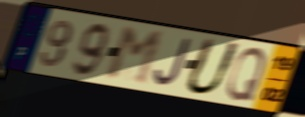9: (72, 21, 111, 78), (38, 19, 75, 68)
J: (152, 37, 194, 88)
M: (104, 26, 165, 88)
Q: (225, 46, 268, 104)
U: (182, 36, 243, 97)
